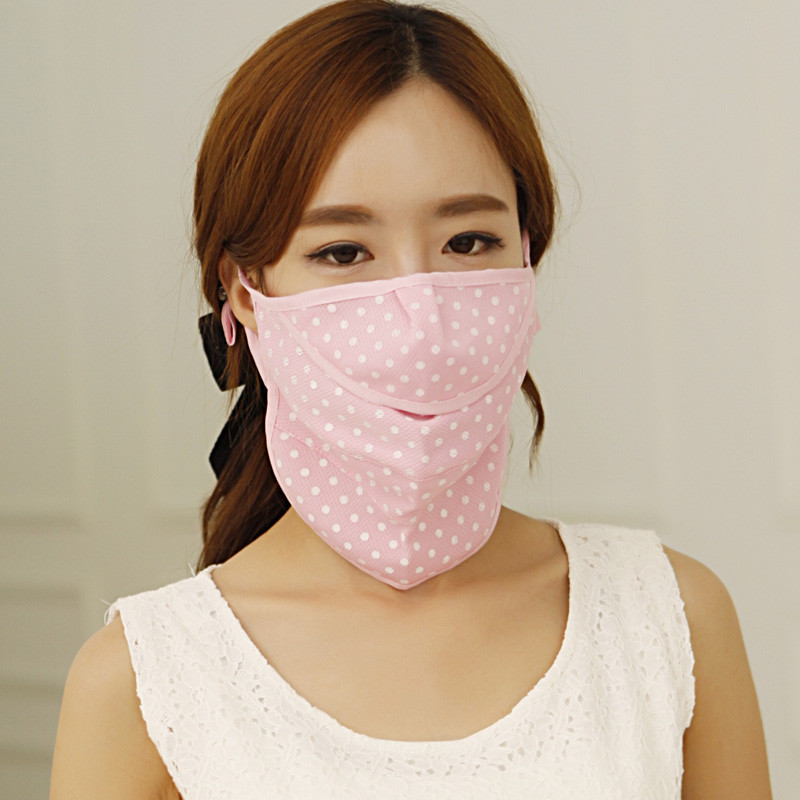face_mask: (264, 84, 533, 486)
